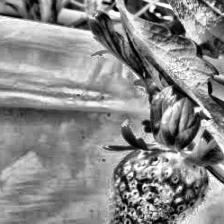Powdery Mildew Fruit: (106, 148, 210, 224)
